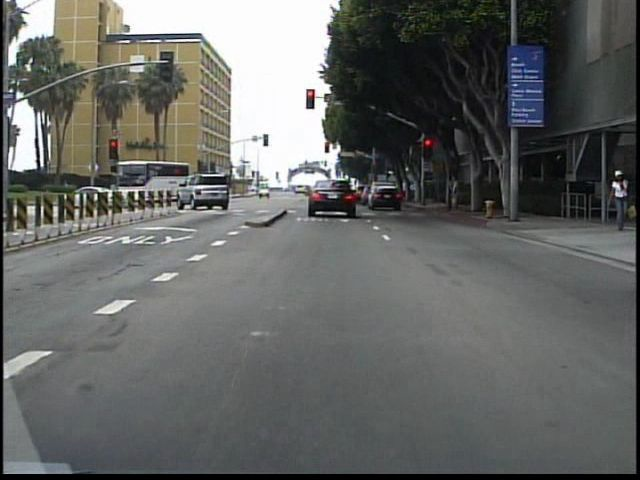person: (446, 168, 463, 213)
